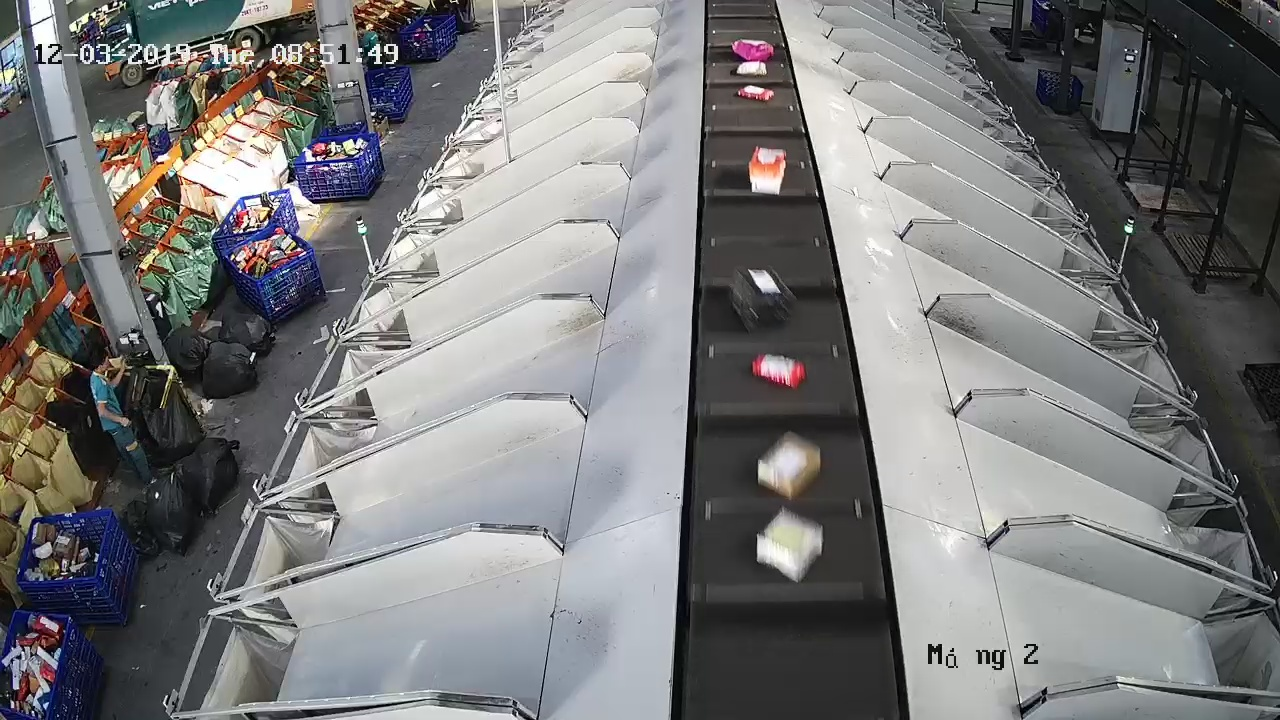parcel: (754, 505, 825, 585), (728, 263, 798, 335), (755, 429, 823, 501), (747, 144, 788, 198), (751, 352, 808, 390)
